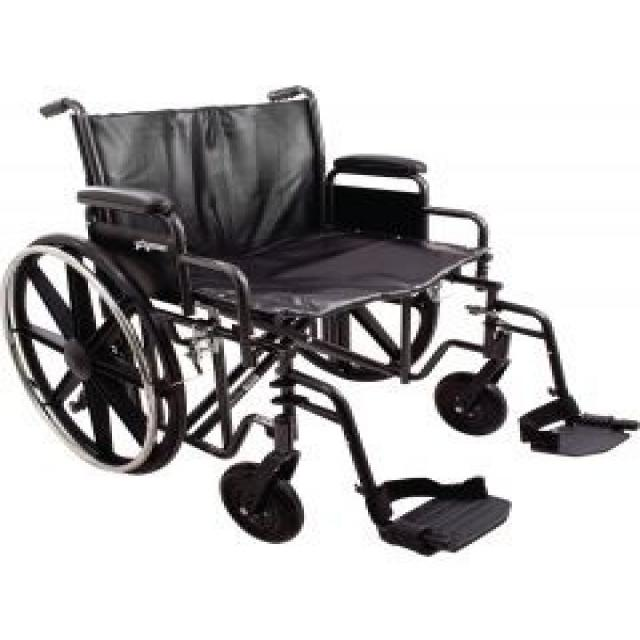wheelchair: (3, 68, 640, 572)
